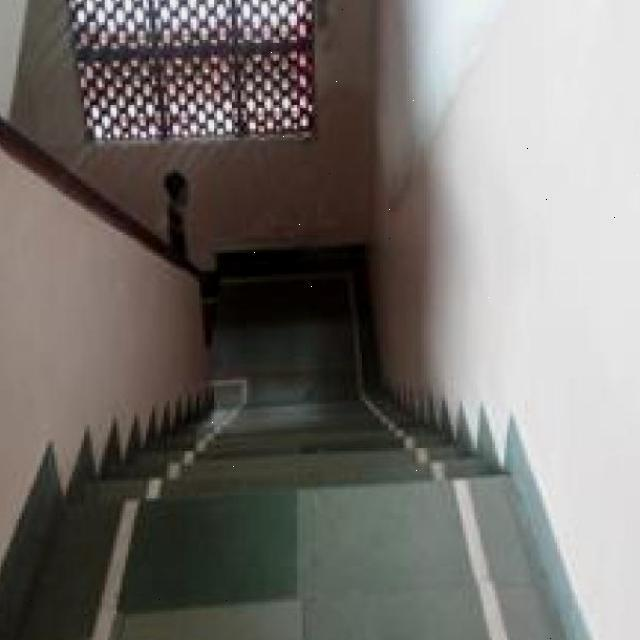stair: (87, 375, 504, 552)
